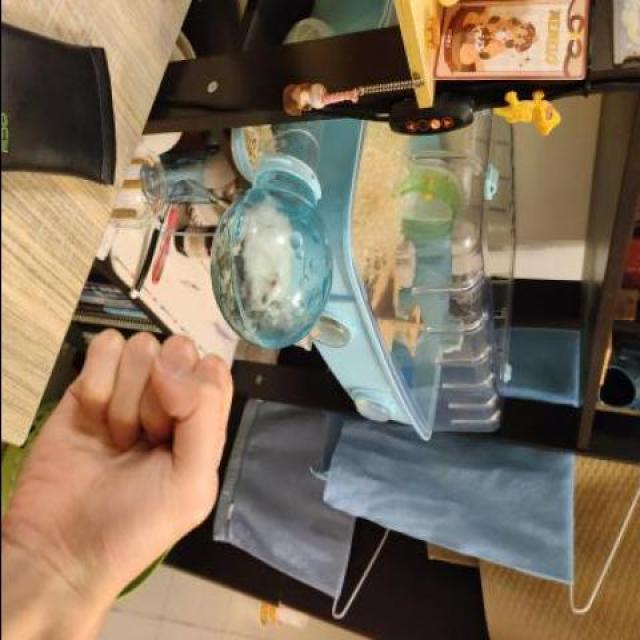fist: (0, 309, 256, 640)
